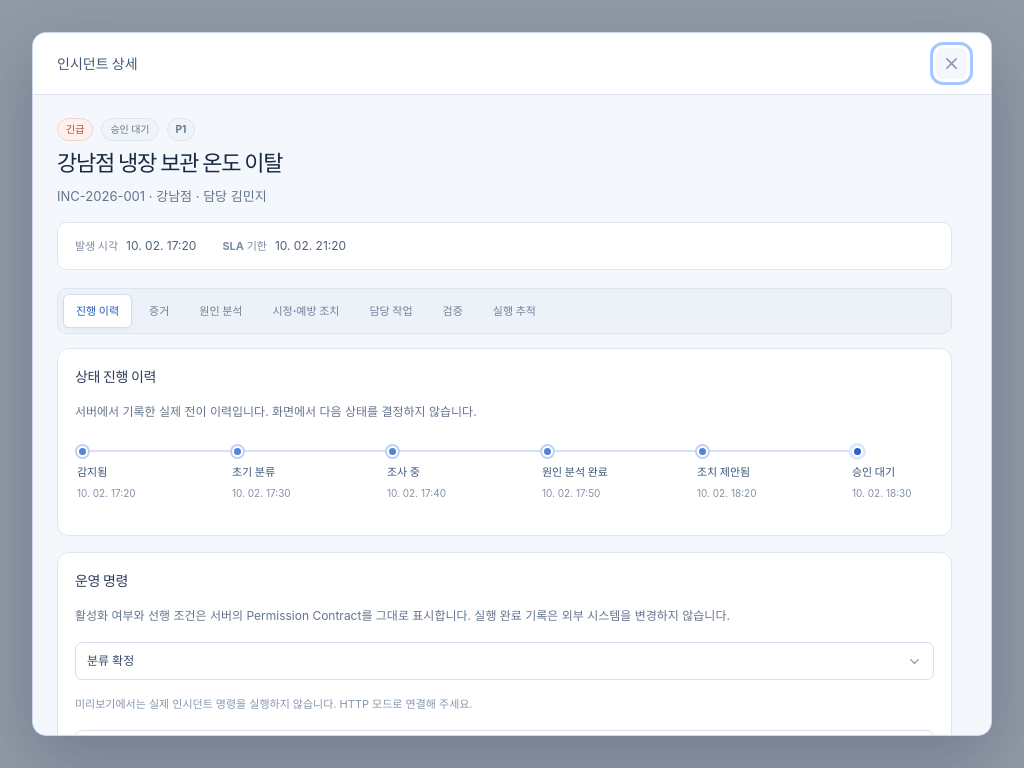
Scenario: 인시던트 상세 회귀 › 서버의 내부 검증 범위를 표시하고 외부 실행 완료로 과장하지 않는다
The width and height of the screenshot is (1024, 768).
Expected: the heading "강남점 냉장 보관 온도 이탈" is shown, [57,149,282,179]
Press the mouse on the tab "시정·예방 조치" at (306, 311), box [259,294,352,328]
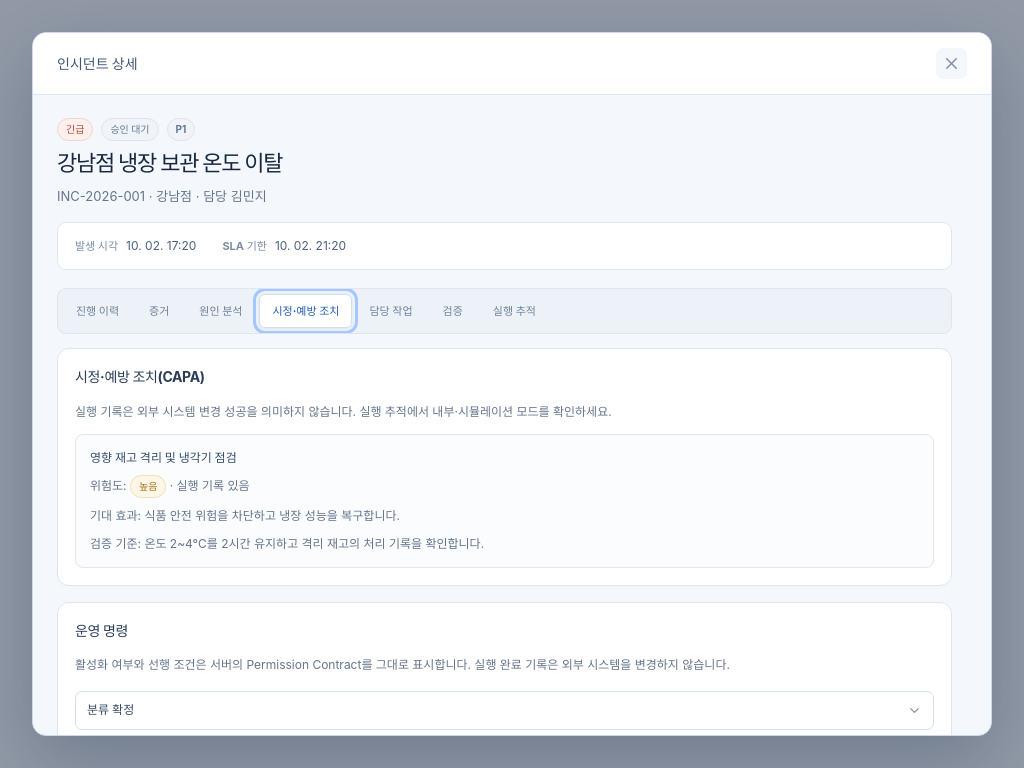
Result: the text "실행 기록은 외부 시스템 변경 성공을 의미하지 않습니다. 실행 추적에서 내부·시뮬레이션 모드를 확인하세요." is shown at [75,404,612,419]
Press the mouse on the tab "검증" at (453, 311), box [430,294,476,328]
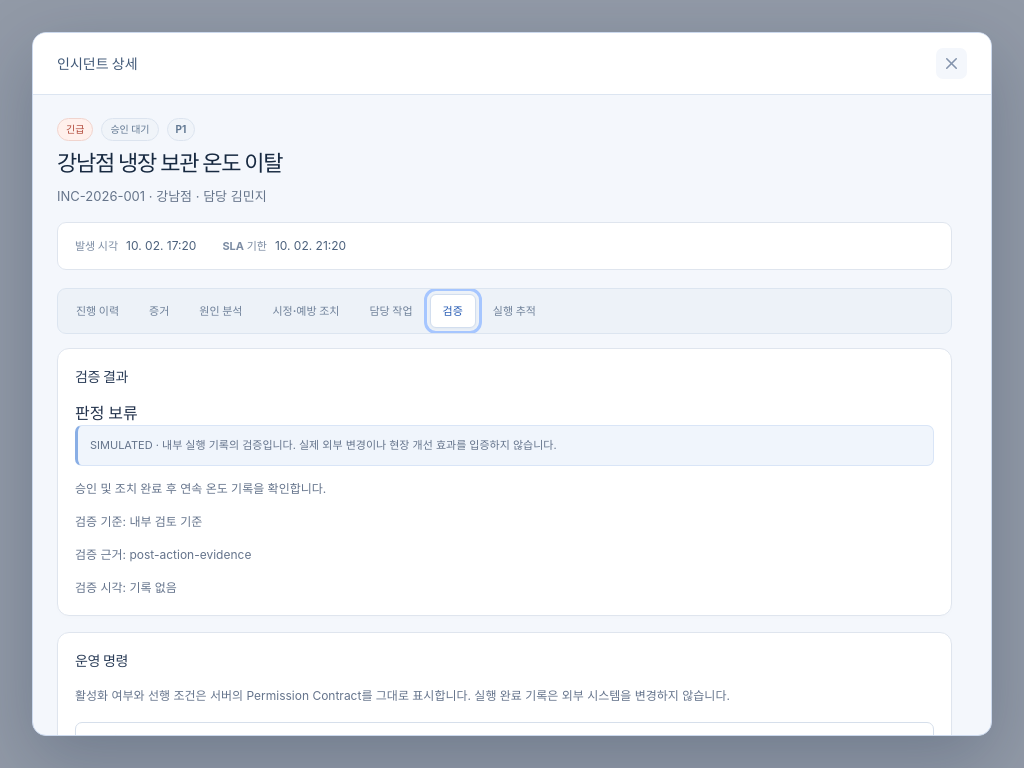
Result: the text "SIMULATED · 내부 실행 기록의 검증입니다. 실제 외부 변경이나 현장 개선 효과를 입증하지 않습니다." is shown at [75,425,934,466]
Result: the text "검증 근거: post-action-evidence" is shown at [75,547,251,562]
